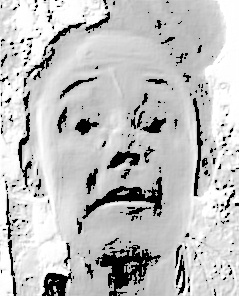nose_M_C: (103, 127, 142, 182)
